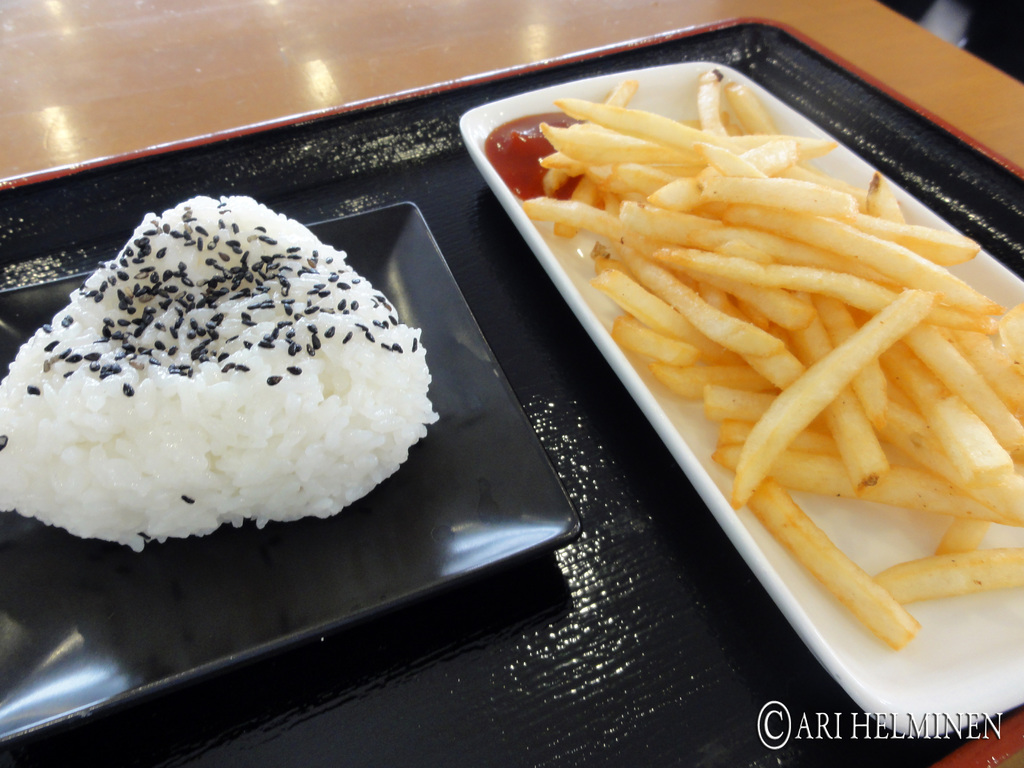French fries: (512, 54, 1023, 656)
